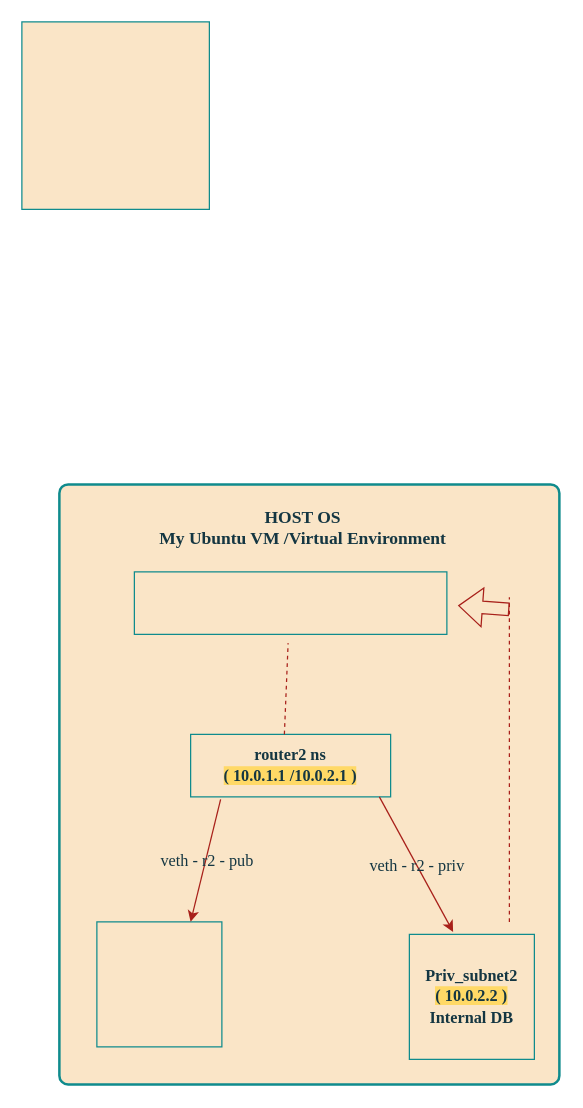
This 583x1108 diagram has some shape labels left out. Here are the shapes that lost their labels. From the top down, the box of each, then its label:
(133, 571, 447, 634): br - vpc - linux ( acts as virtual switch )
(96, 921, 222, 1047): Pub_subnet2 (10.0.1.2 ) Web Server
